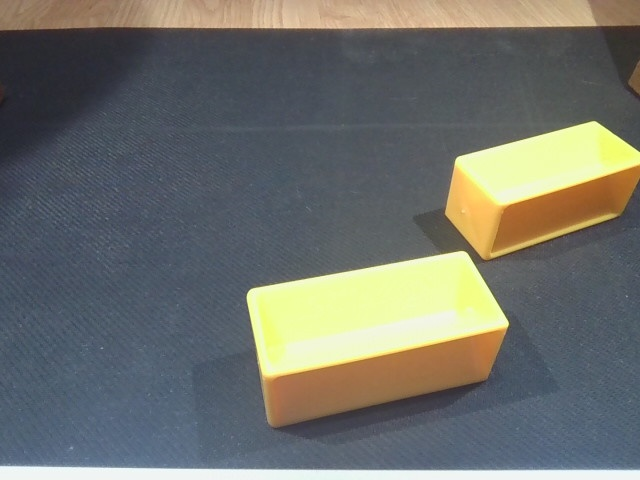YellowSample: (231, 249, 516, 429), (440, 117, 640, 257)
